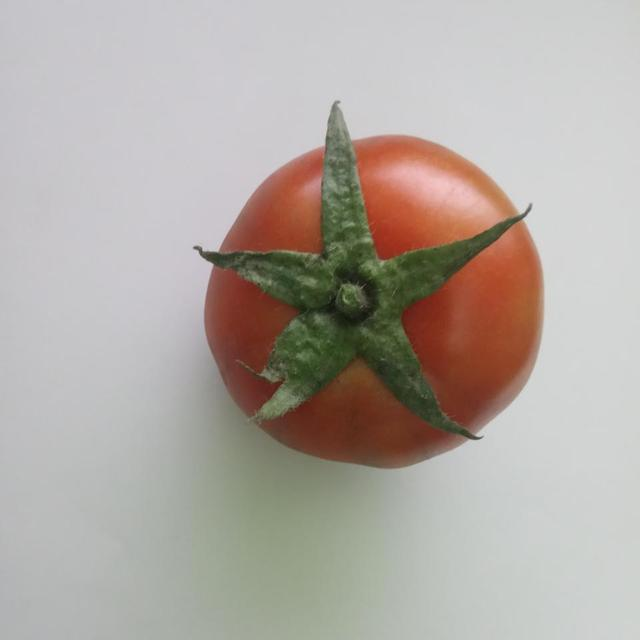Healthy Fruit: (131, 83, 367, 317)
